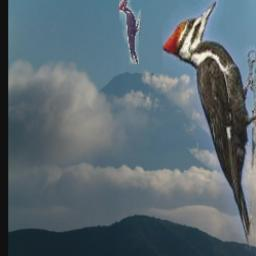Woodpecker: (161, 1, 255, 253), (118, 0, 140, 64)
